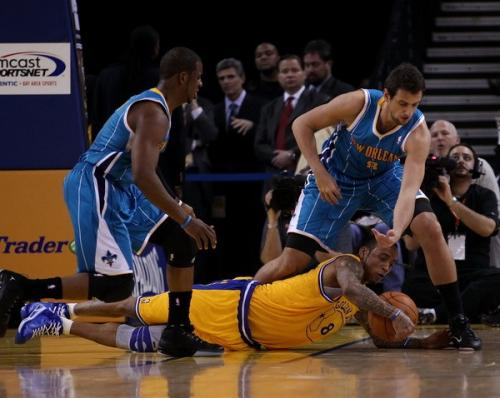fall: (6, 206, 441, 358)
